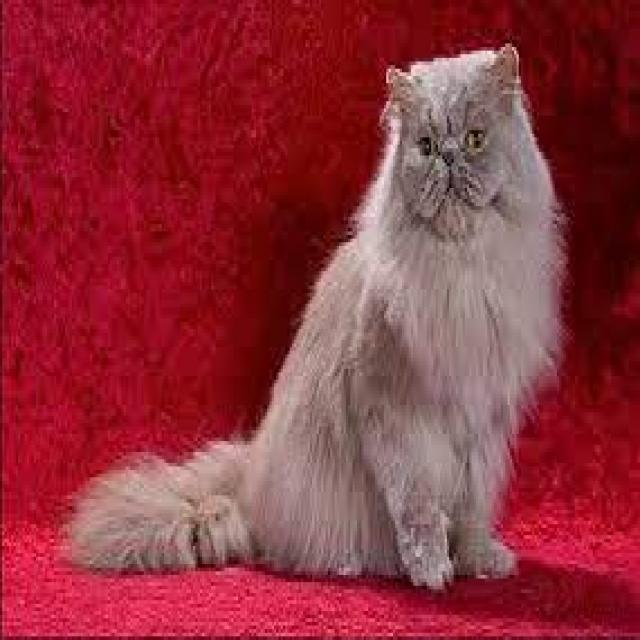Cat: (62, 42, 574, 596)
